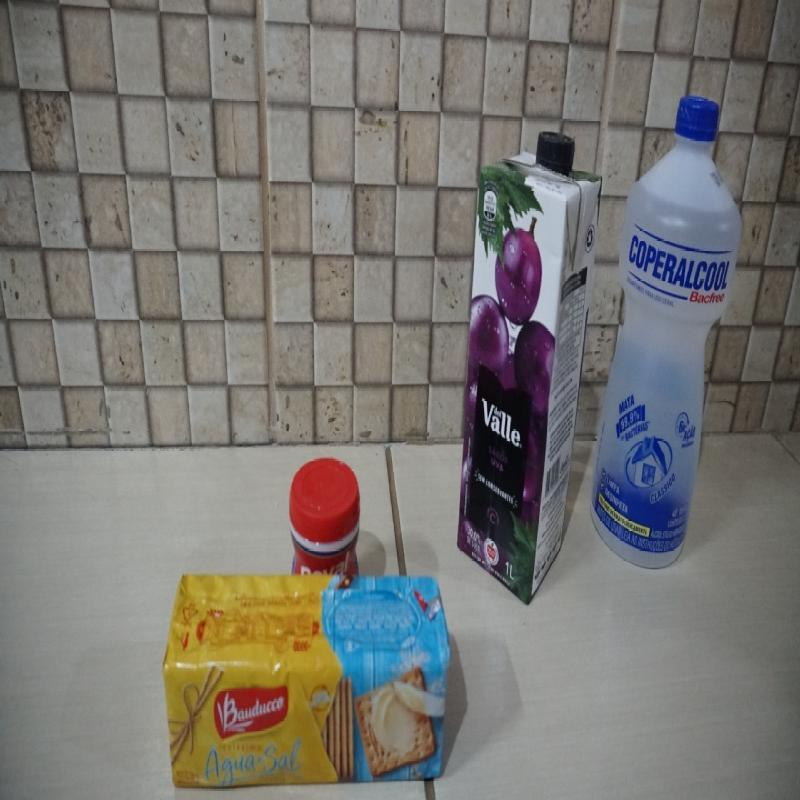Alcohol Bottle: (591, 96, 744, 572)
Cracker: (163, 573, 451, 790)
Yeast: (286, 458, 362, 574)
